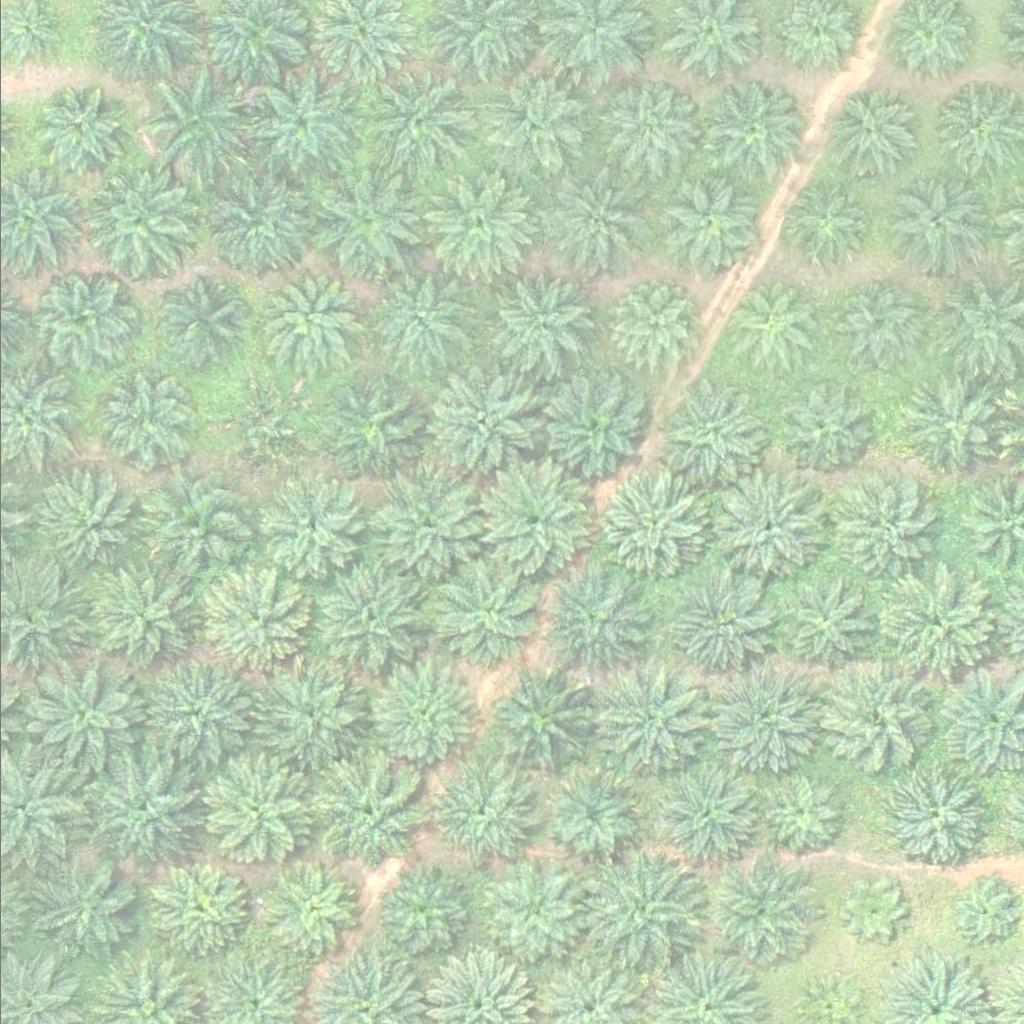Kelapa_Sawit: (481, 668, 595, 781), (656, 376, 770, 489), (429, 553, 543, 666), (363, 660, 477, 773), (310, 758, 424, 871), (199, 755, 313, 868), (27, 856, 141, 969), (819, 660, 932, 773), (706, 664, 819, 777), (591, 665, 704, 778), (881, 565, 994, 678), (761, 567, 874, 680), (536, 368, 649, 481), (650, 166, 763, 279), (137, 66, 250, 179), (421, 367, 534, 480), (315, 370, 428, 483), (133, 468, 246, 581), (251, 656, 364, 769), (84, 753, 197, 866), (84, 164, 197, 277), (541, 563, 655, 675), (710, 473, 824, 585), (589, 469, 703, 581), (702, 856, 815, 968), (580, 855, 693, 967), (875, 764, 988, 876), (644, 758, 757, 870), (659, 568, 772, 680), (827, 474, 940, 586), (537, 169, 650, 281), (693, 73, 806, 185), (361, 67, 474, 179), (246, 66, 359, 178), (422, 167, 535, 279), (307, 166, 420, 278), (196, 169, 309, 281), (475, 464, 588, 576), (371, 469, 484, 581), (253, 470, 366, 582), (312, 565, 425, 677), (197, 566, 310, 678), (144, 663, 257, 775), (25, 661, 138, 773), (81, 561, 194, 673), (539, 766, 640, 866), (597, 75, 698, 175), (486, 76, 587, 176), (492, 275, 593, 375), (367, 264, 468, 364), (247, 273, 348, 373), (150, 272, 251, 372), (484, 866, 585, 966), (374, 867, 475, 967), (34, 468, 135, 568), (95, 375, 196, 475), (31, 270, 132, 370), (897, 374, 997, 474), (767, 375, 867, 475), (724, 274, 824, 374), (882, 171, 982, 271), (435, 769, 535, 869), (260, 865, 360, 965), (148, 861, 248, 961), (759, 770, 847, 858), (821, 86, 909, 174), (31, 85, 119, 173), (215, 391, 304, 478), (828, 276, 916, 363), (609, 283, 697, 370), (781, 174, 869, 261), (951, 884, 1014, 947), (840, 879, 903, 942)
